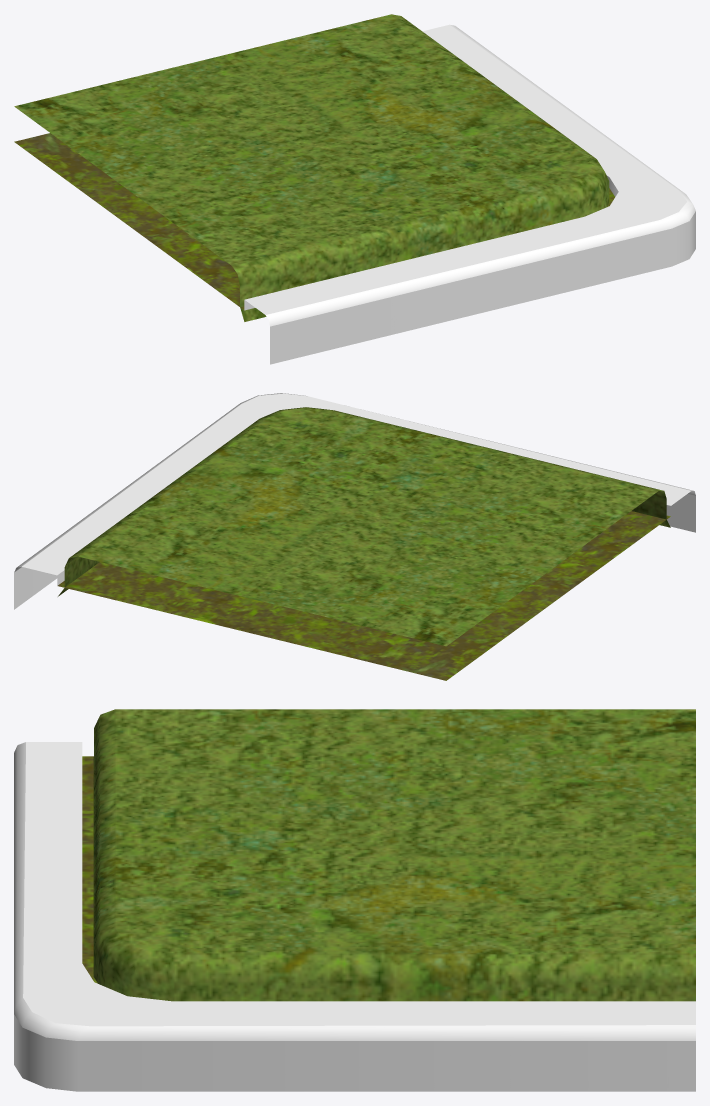
Rendered from Planter_B_01A.fbx.
3 renders of one model, top to bottom at view 1: azimuth 30°, elevation 25°; view 2: azimuth 150°, elevation 25°; view 3: azimuth 270°, elevation 25°, orthographic. The views are drawn at different scales.
Parts seen in each view (by area): view 1: Planter_B_01A; view 2: Planter_B_01A; view 3: Planter_B_01A.
Part boxes in pixels (x1=…): Planter_B_01A: x1=14, y1=14, x2=695, y2=364; Planter_B_01A: x1=14, y1=393, x2=695, y2=680; Planter_B_01A: x1=14, y1=709, x2=695, y2=1091.
Bounding box in the file's own units: 200 × 30.52 × 200.
Materials: 1 (1 with a texture image).
